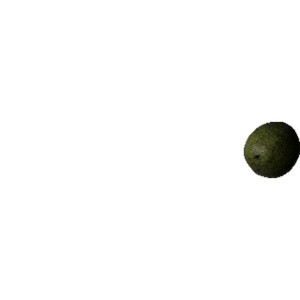abacate: (242, 120, 298, 179)
